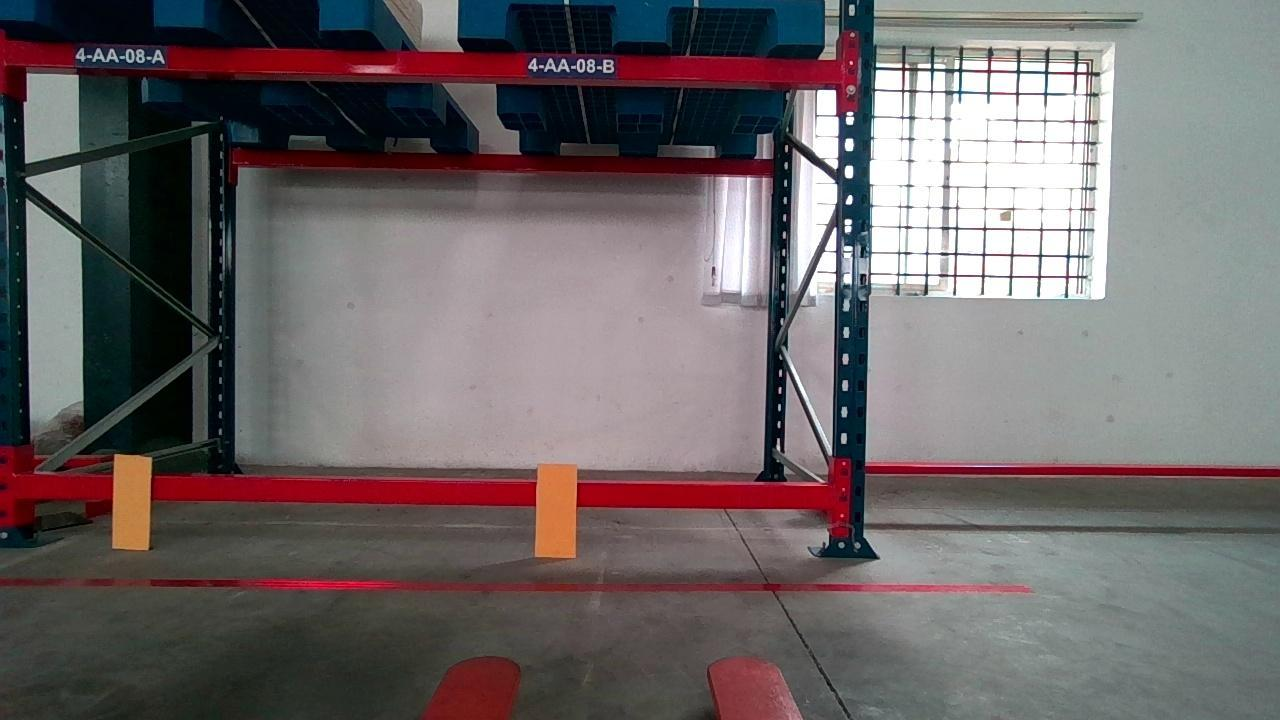h_rack: (7, 41, 840, 86), (11, 476, 832, 505)
orange_strip: (536, 460, 581, 557), (109, 455, 152, 546)
red_line: (3, 569, 1040, 592)
small_pallet: (455, 0, 824, 43), (1, 0, 368, 31)
